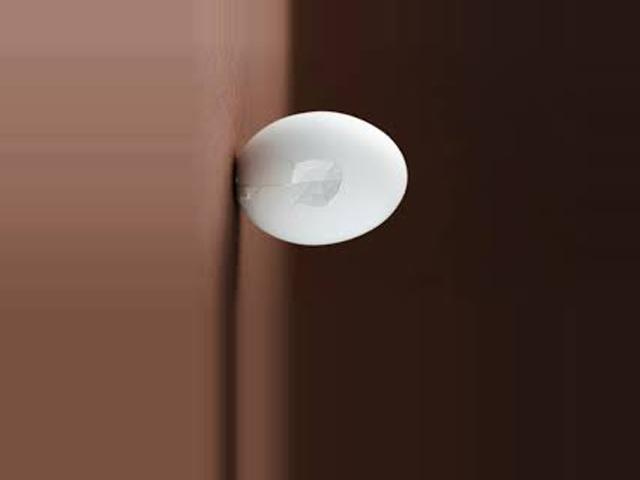egg: (233, 111, 407, 243)
